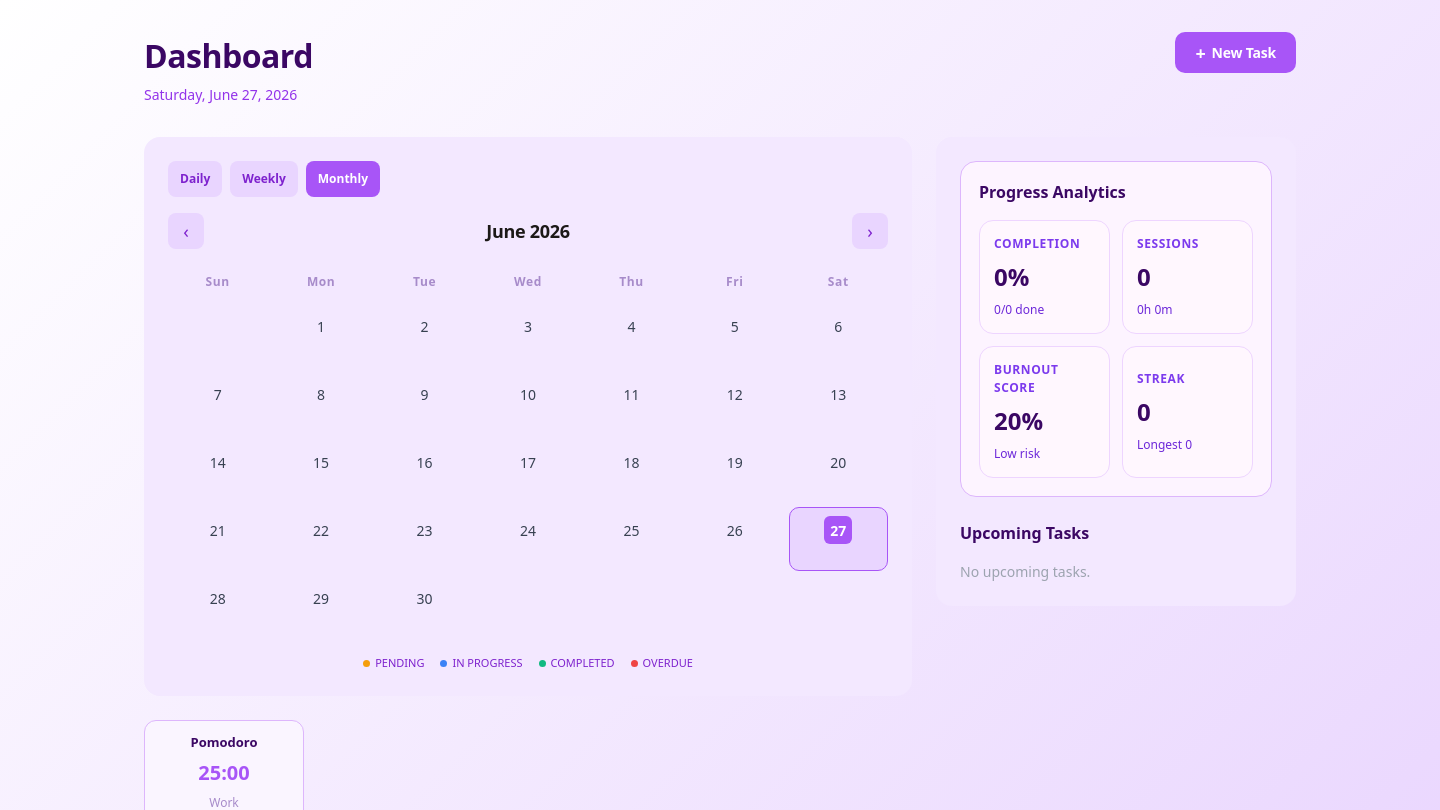
Scenario: DashboardCalendar › opens new task modal when clicking New Task
Click the button "+ New Task": (1236, 52) x1=1175 y1=32 x2=1296 y2=73
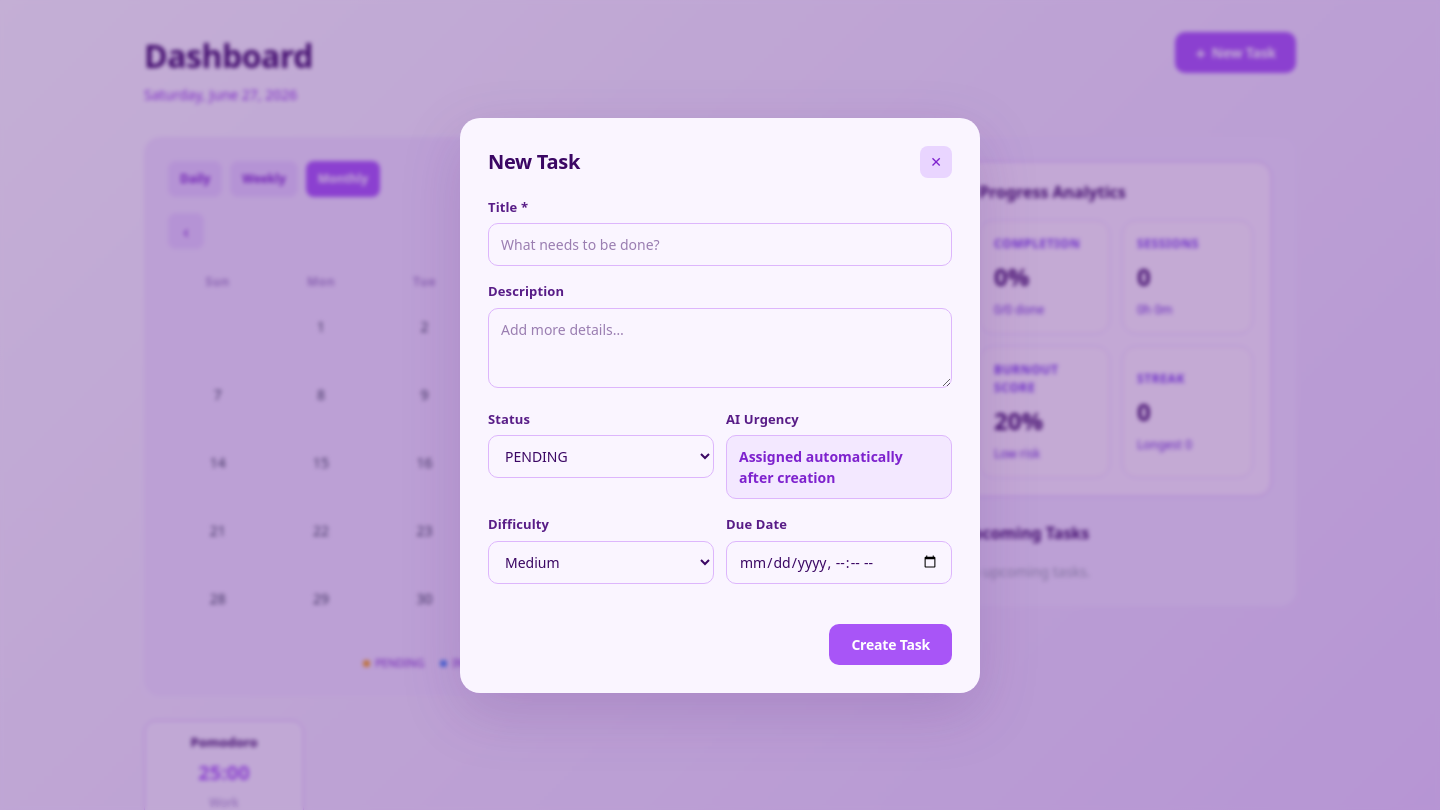
Expected: the field with placeholder "What needs to be done?" is shown, x1=488 y1=223 x2=952 y2=266
Expected: the button "Create Task" is shown, x1=829 y1=624 x2=952 y2=664
